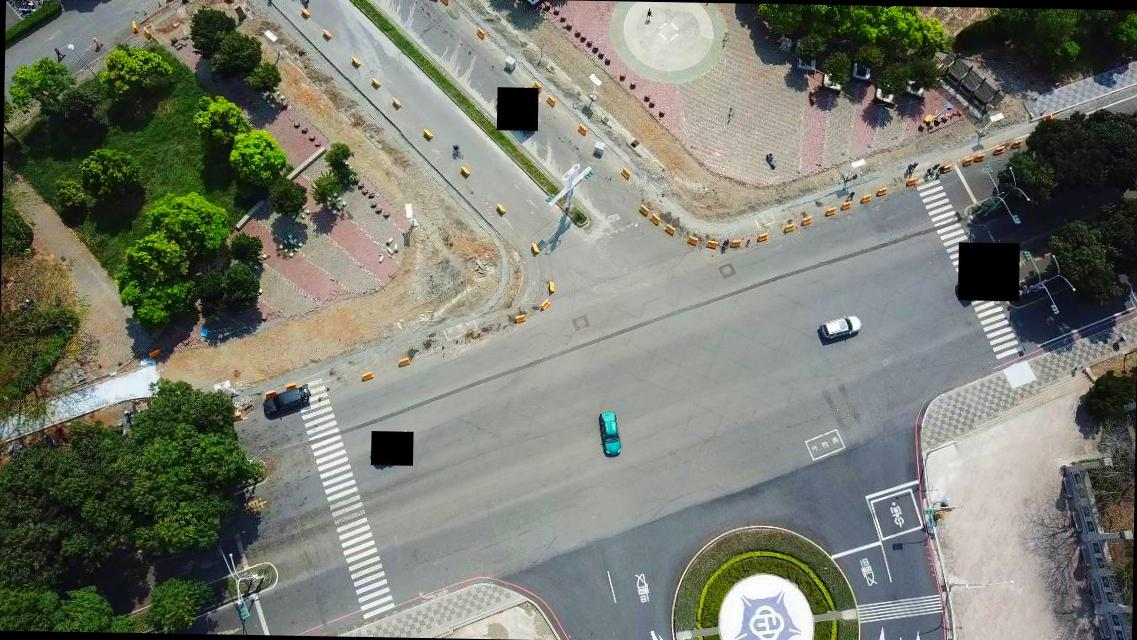vehicle: (262, 382, 312, 414), (819, 313, 862, 341), (596, 411, 622, 456)
